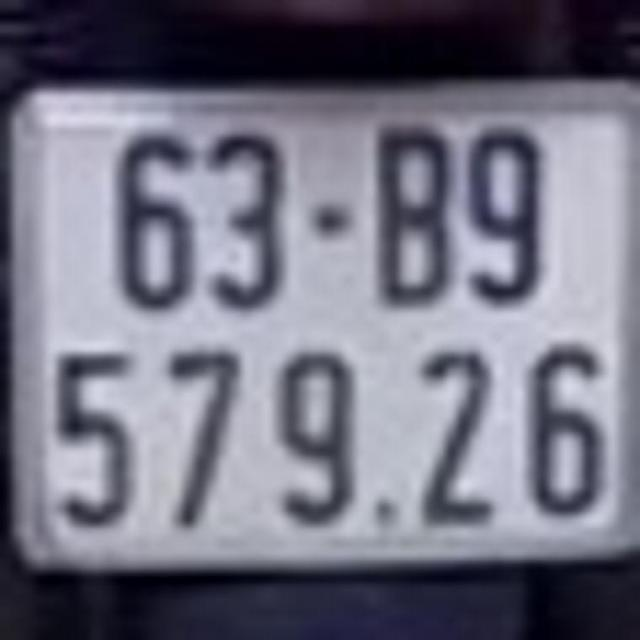2: (414, 348, 498, 527)
3: (205, 133, 288, 314)
5: (54, 346, 132, 528)
6: (118, 134, 197, 308), (530, 338, 606, 516)
7: (160, 346, 240, 533)
9: (270, 348, 359, 532), (465, 124, 540, 303)
B: (371, 128, 453, 308)
